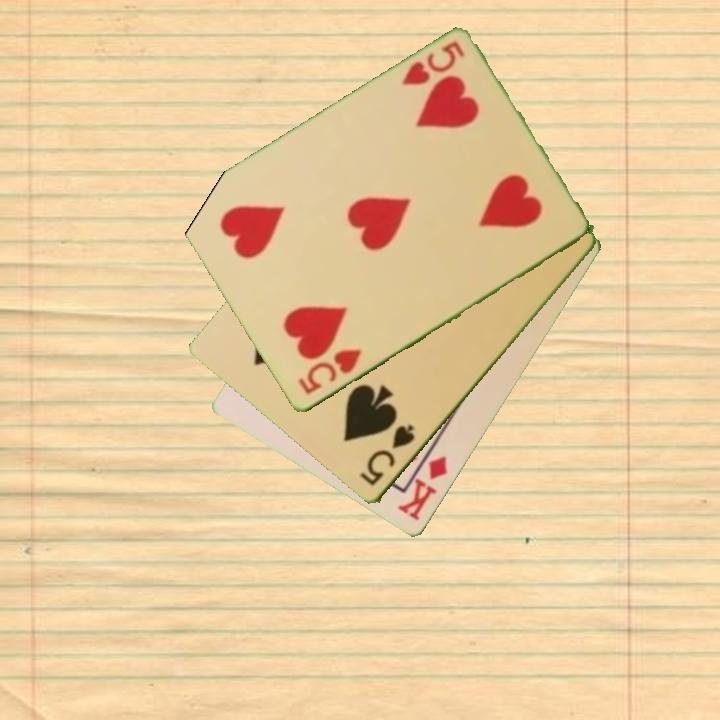5h: (294, 345, 364, 398), (398, 38, 468, 89)
5s: (356, 420, 418, 490)
Kd: (393, 453, 451, 525)
